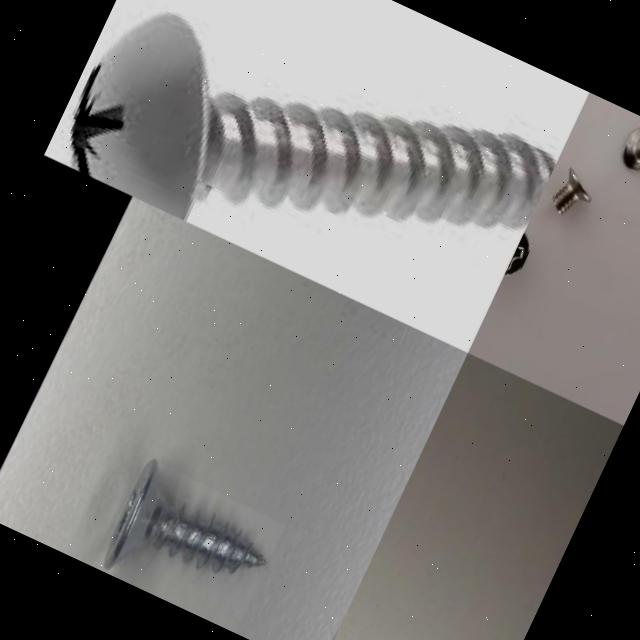Screw: (69, 13, 555, 231), (104, 459, 266, 573), (542, 164, 604, 230), (502, 226, 542, 286), (612, 117, 640, 184)
